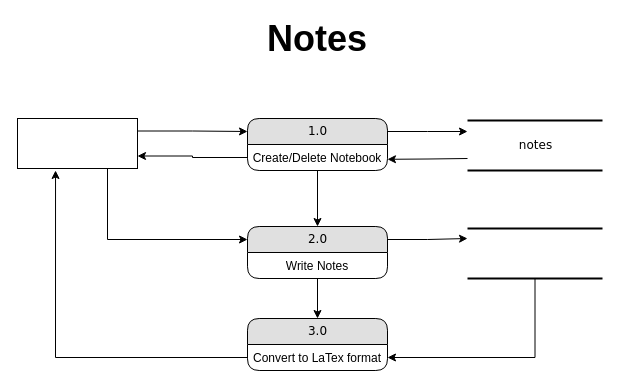
This 621x391 diagram has some shape labels left out. Here are the shapes that lost their labels. From the top down, the centre of each, then its label:
(77,143): User
(534,253): note_pages
